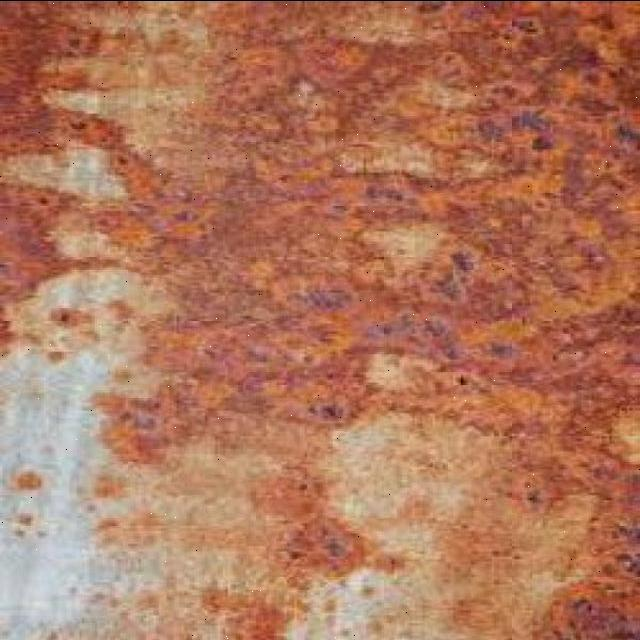corrosion: (245, 6, 640, 198), (429, 78, 638, 337), (4, 10, 209, 252), (160, 173, 360, 306), (471, 1, 640, 108), (81, 562, 312, 639), (2, 76, 110, 169), (0, 7, 97, 100)
crack: (0, 331, 120, 420)
vegetation: (0, 1, 639, 638)
